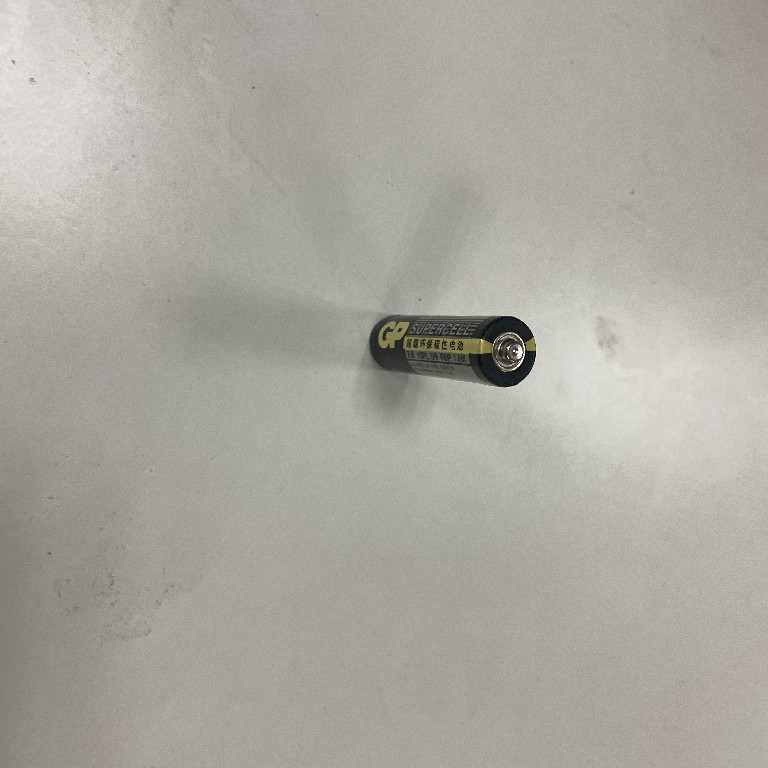charge: (364, 309, 541, 391)
